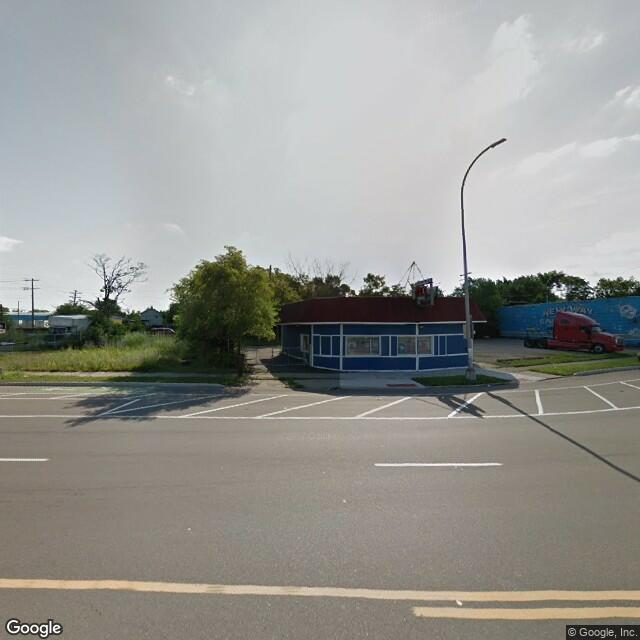litter: (455, 599, 464, 606), (483, 382, 494, 387), (438, 394, 449, 397)
